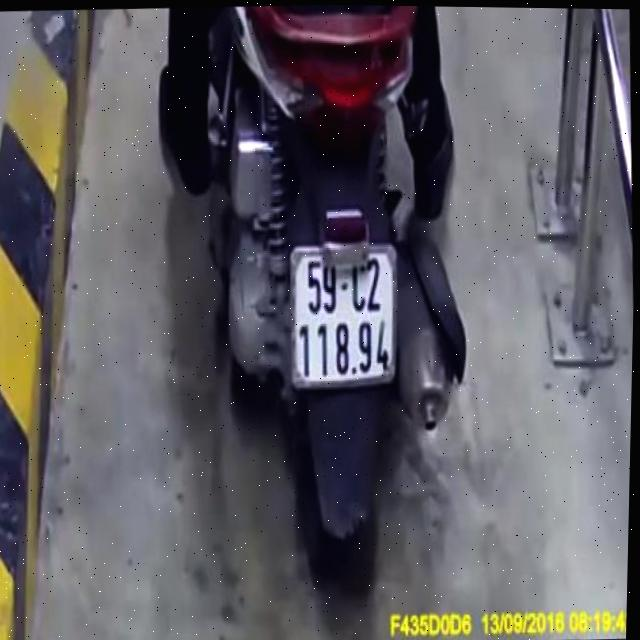motorcycle: (192, 3, 494, 636)
plate: (278, 235, 405, 394)
